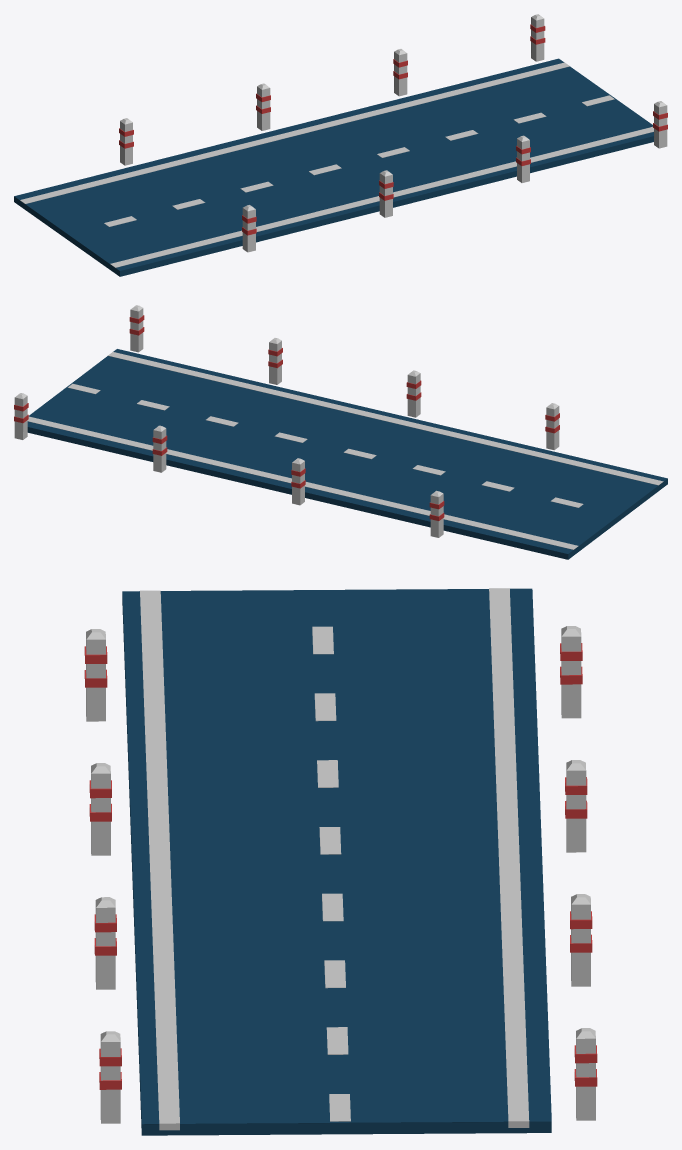
The model's file is node_lev2.glb.
3 renders of one model, top to bottom at view 1: azimuth 30°, elevation 25°; view 2: azimuth 150°, elevation 25°; view 3: azimuth 270°, elevation 25°, orthographic. The views are drawn at different scales.
Visible parts, largest first — view 1: node_lev2; view 2: node_lev2; view 3: node_lev2.
Part boxes in pixels (x1=…): node_lev2: x1=14, y1=14, x2=667, y2=276; node_lev2: x1=14, y1=305, x2=667, y2=559; node_lev2: x1=84, y1=588, x2=597, y2=1135.
Bounding box in the file's own units: 54.86 × 4.35 × 22.18.
Materials: 1 (1 with a texture image).
